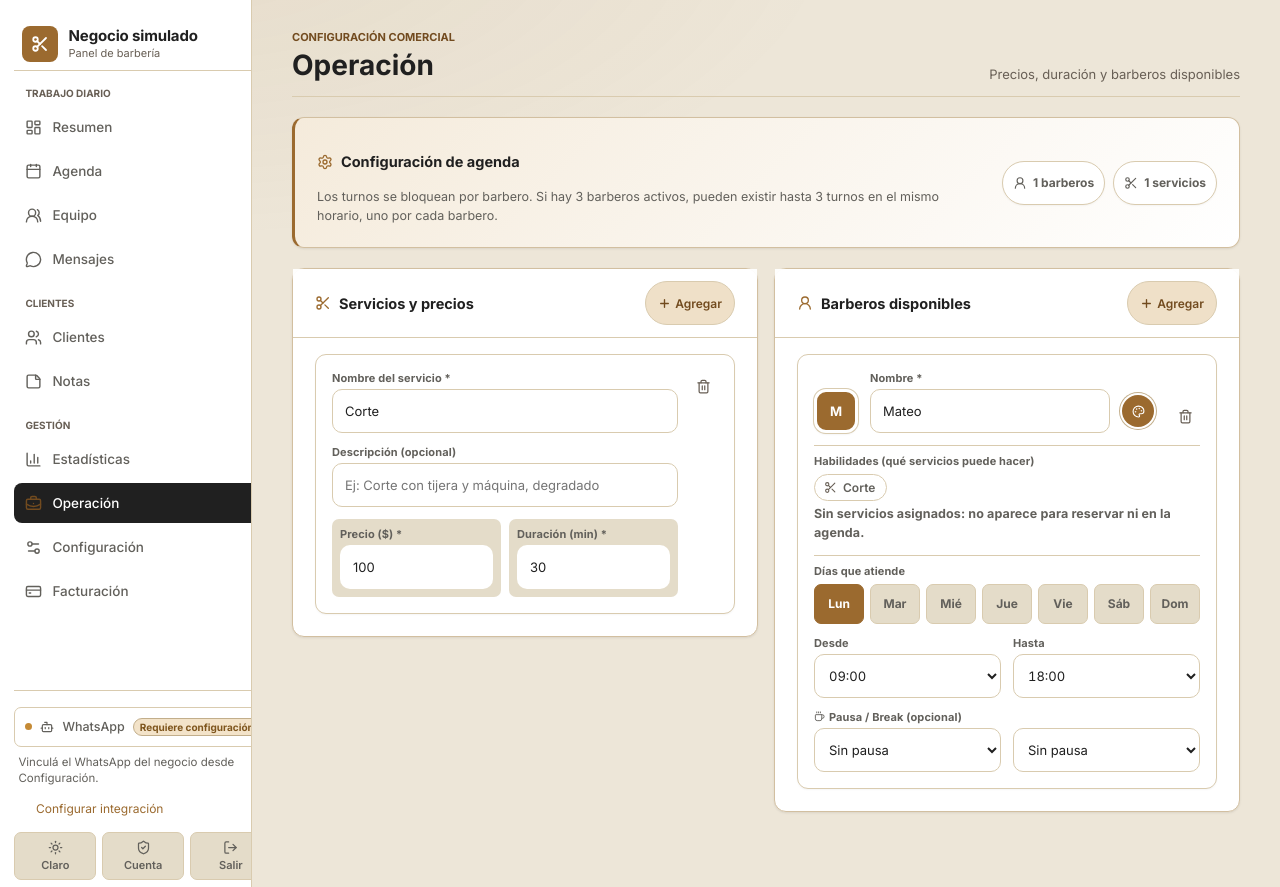
Test case: Operación: rollback por campo y resultado confirmado › una excepción de nombre del profesional conserva su color guardado
Replace the text in the field labelled "Nombre *" with "Nombre incierto" at [990, 412], box x1=870 y1=390 x2=1110 y2=434
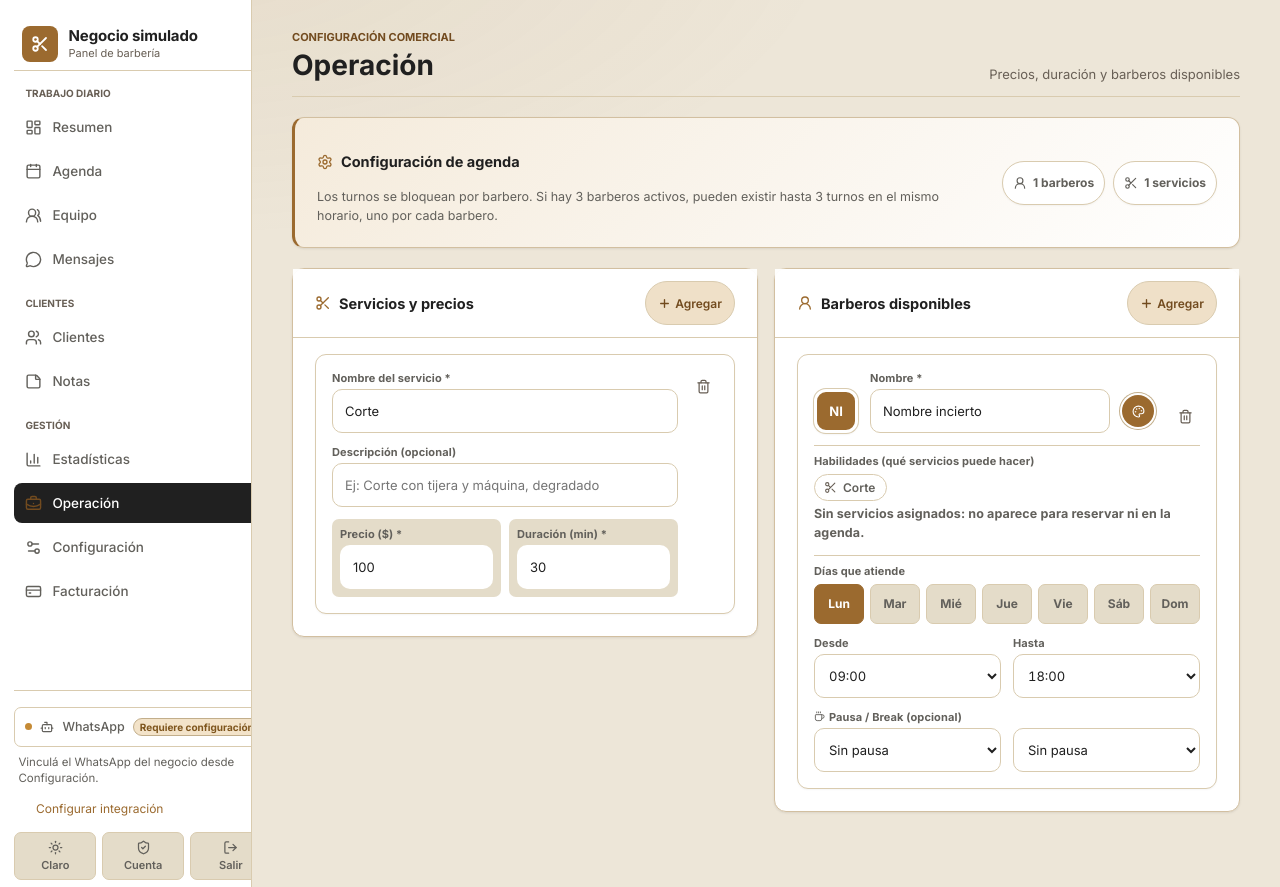
Type "#112233" into the colour field named "Color del barbero" at [1138, 412], box x1=1122 y1=396 x2=1154 y2=428
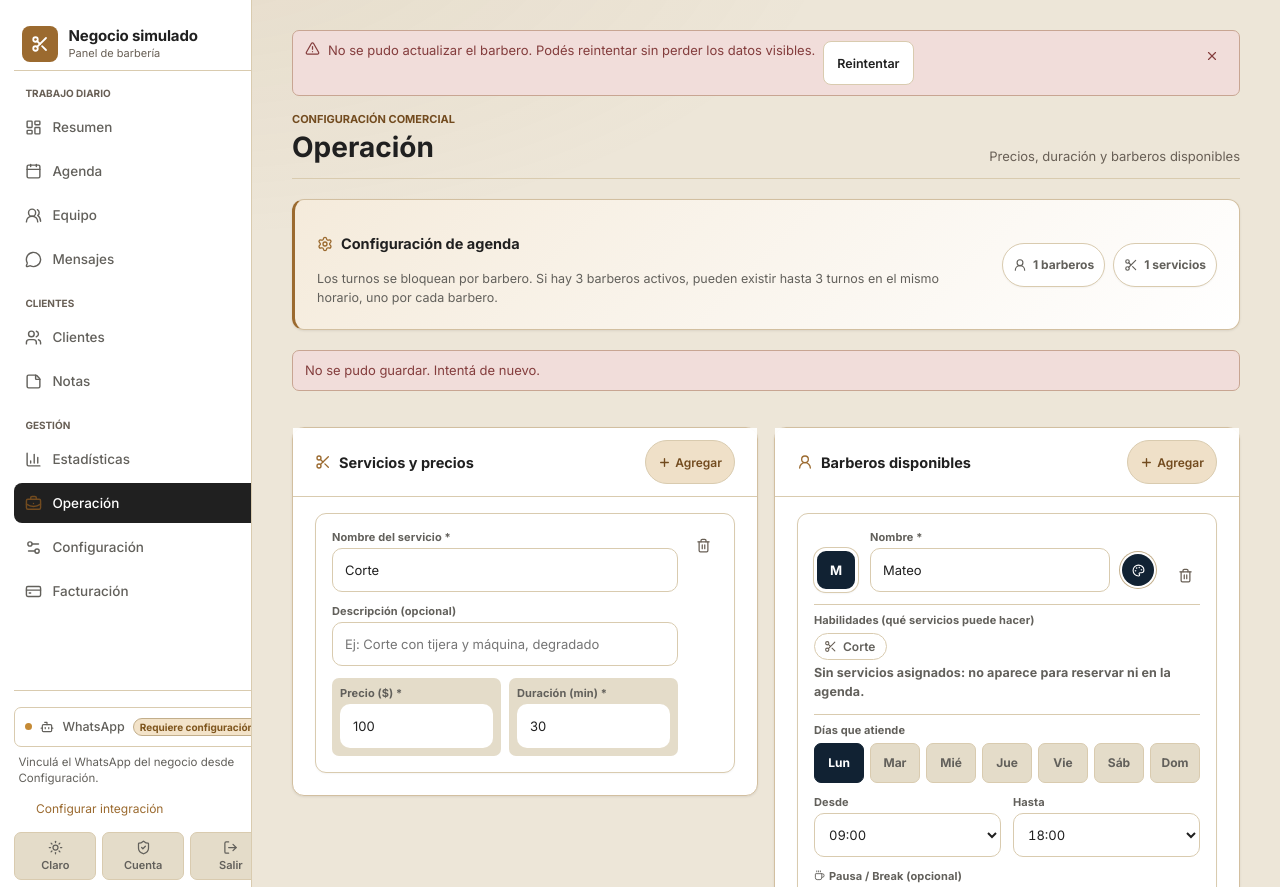
Expected: the colour field named "Color del barbero" holds "#112233", x1=1122 y1=554 x2=1154 y2=586
Now the field labelled "Nombre *" holds "Mateo", box x1=870 y1=548 x2=1110 y2=592
